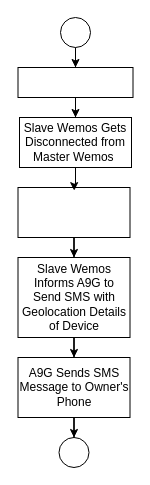
Some shapes in this 150 by 485 pixel diagram are drawn without their labels. Each missing label, with the centre of its shape:
Device Gets Stolen: point (75, 82)
Slave Wemos Executes Protocol for Theft: point (73, 212)
